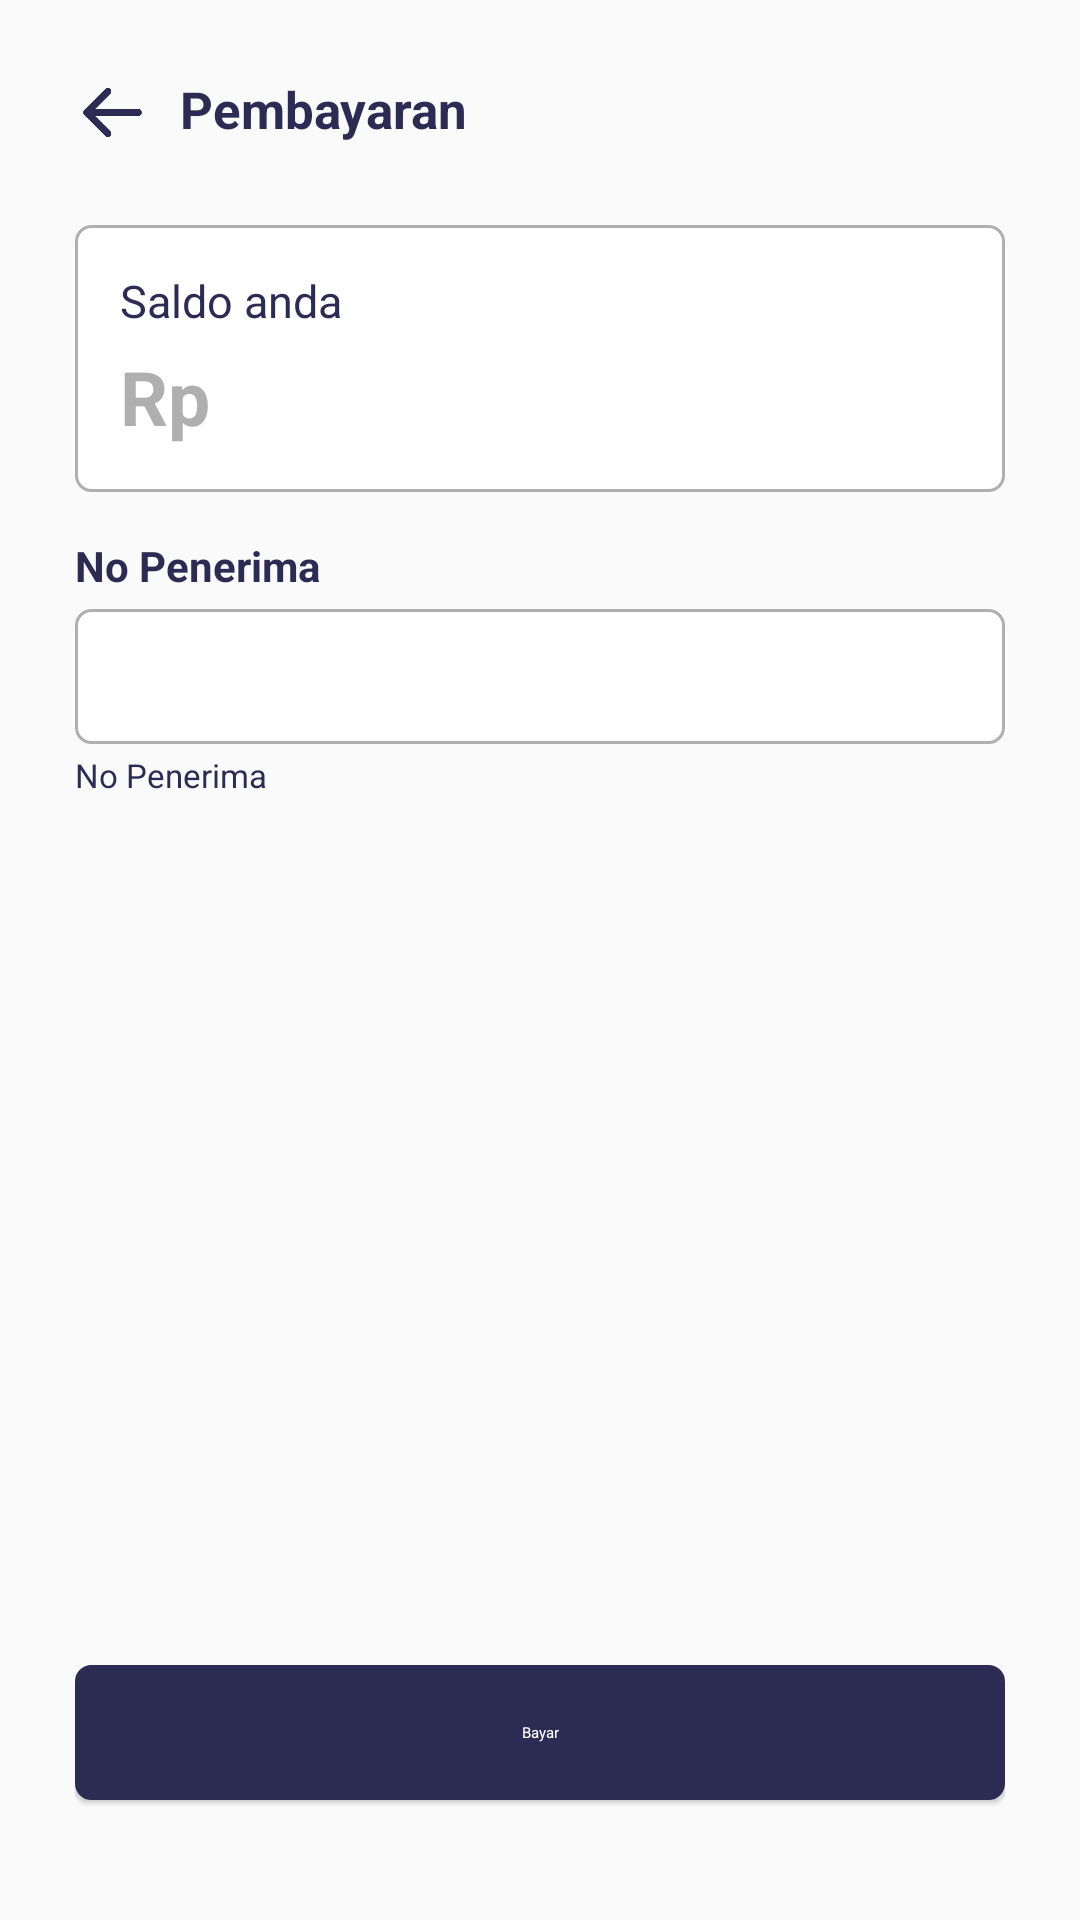

Screen size 1080px×1920px. Icon name, then its box in pixels as rect(x1, y1, x2, y2):
arrow back: rect(83, 88, 142, 137)
